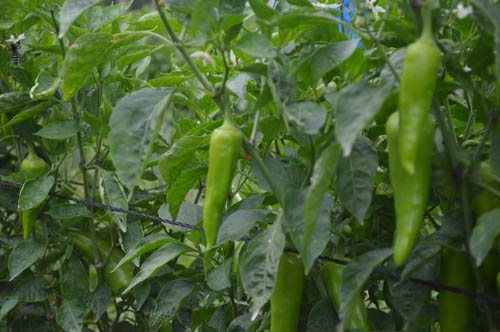ChiliPepper: (383, 115, 435, 266), (396, 46, 441, 177), (204, 128, 241, 251), (70, 230, 129, 293), (440, 247, 475, 326), (322, 262, 364, 327), (269, 257, 306, 330), (16, 159, 48, 233)
